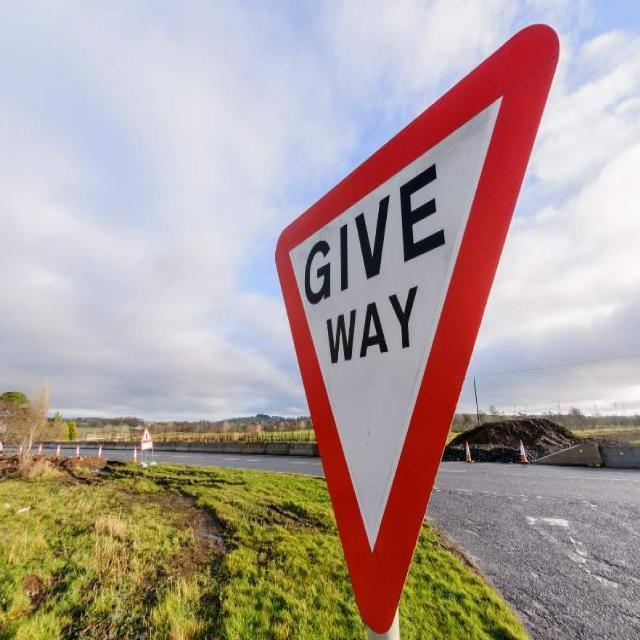give way: (276, 22, 555, 614)
